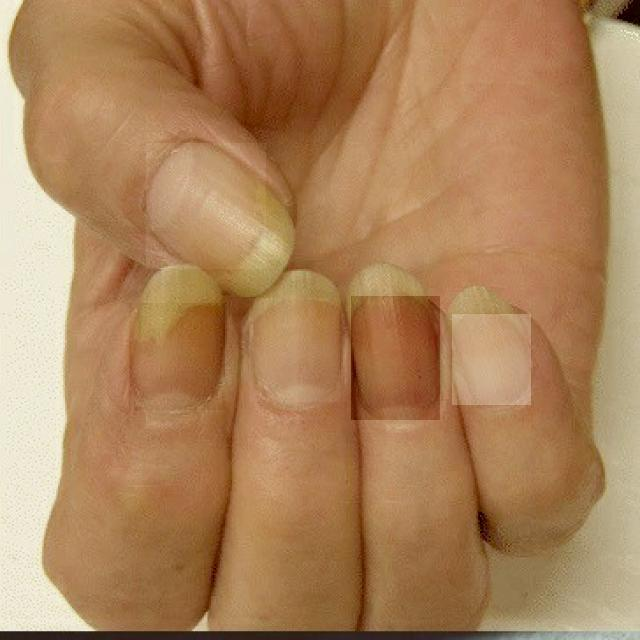diabetes: (130, 303, 225, 410)
sehat: (147, 144, 266, 269), (352, 296, 440, 420), (250, 299, 340, 402), (452, 315, 531, 405)
